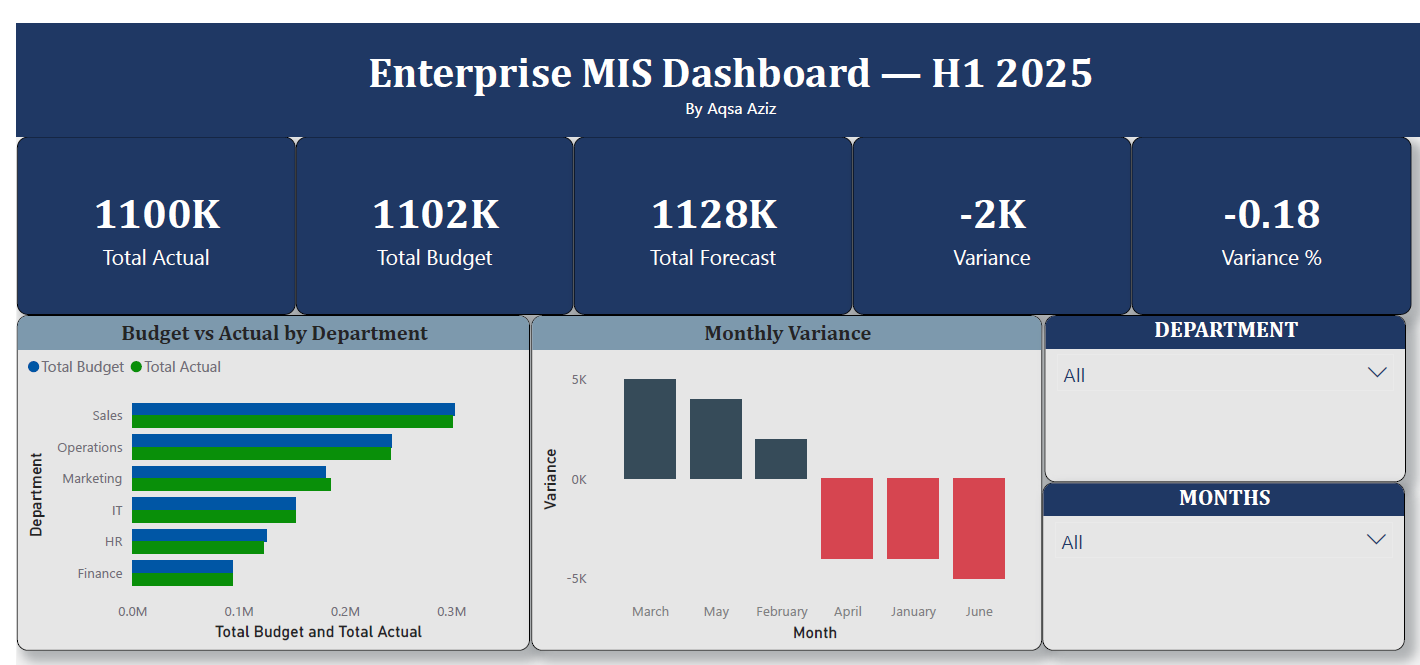

What the dashboard file says about the page in this screenshot:
{"tool":"powerbi","page":{"name":"Executive Summary","canvas":[1280,720],"ordinal":0},"visuals":[{"type":"card","fields":{"Values":["Budget.Total Actual"]},"box":[0,101.3,249.7,159.3],"z":0},{"type":"card","fields":{"Values":["Budget.Total Budget"]},"box":[249.7,101.3,249.7,159.3],"z":1000},{"type":"card","fields":{"Values":["Budget.Total Forecast"]},"box":[499.5,101.3,249.7,159.3],"z":2000},{"type":"card","fields":{"Values":["Budget.Variance"]},"box":[749.2,101.3,249.7,159.3],"z":3000},{"type":"card","fields":{"Values":["Budget.Variance %"]},"box":[998.9,101.3,250.9,159.3],"z":4000},{"type":"textbox","box":[0,0,1280,101.3],"z":5000},{"type":"clusteredBarChart","title":"Budget vs Actual by Department","fields":{"Category":["Departments.Department"],"Y":["Budget.Total Budget","Budget.Total Actual"]},"box":[0,260.6,459.7,301.6],"z":6000},{"type":"clusteredColumnChart","title":"Monthly Variance","fields":{"Category":["Months.Month"],"Y":["Budget.Variance"]},"box":[460.9,260.6,458.4,301.6],"z":7000},{"type":"slicer","title":"DEPARTMENT","fields":{"Values":["Departments.Department"]},"box":[920.5,260.6,324.5,150.8],"z":8000},{"type":"slicer","title":"MONTHS","fields":{"Values":["Months.Month"]},"box":[919.3,411.4,324.5,150.8],"z":9000}]}

Visuals, with their boxes on the page's 1280x720 design canvas (x1, y1, x2, y2). These are canvas units, not pixel positions in the 1420x665 screenshot, which may show the page scaled, cropped or inside an application window:
card - Budget.Total Actual: region(0, 101, 250, 261)
card - Budget.Total Budget: region(250, 101, 499, 261)
card - Budget.Total Forecast: region(500, 101, 749, 261)
card - Budget.Variance: region(749, 101, 999, 261)
card - Budget.Variance %: region(999, 101, 1250, 261)
textbox: region(0, 0, 1280, 101)
"Budget vs Actual by Department" clusteredBarChart: region(0, 261, 460, 562)
"Monthly Variance" clusteredColumnChart: region(461, 261, 919, 562)
"DEPARTMENT" slicer: region(920, 261, 1245, 411)
"MONTHS" slicer: region(919, 411, 1244, 562)
